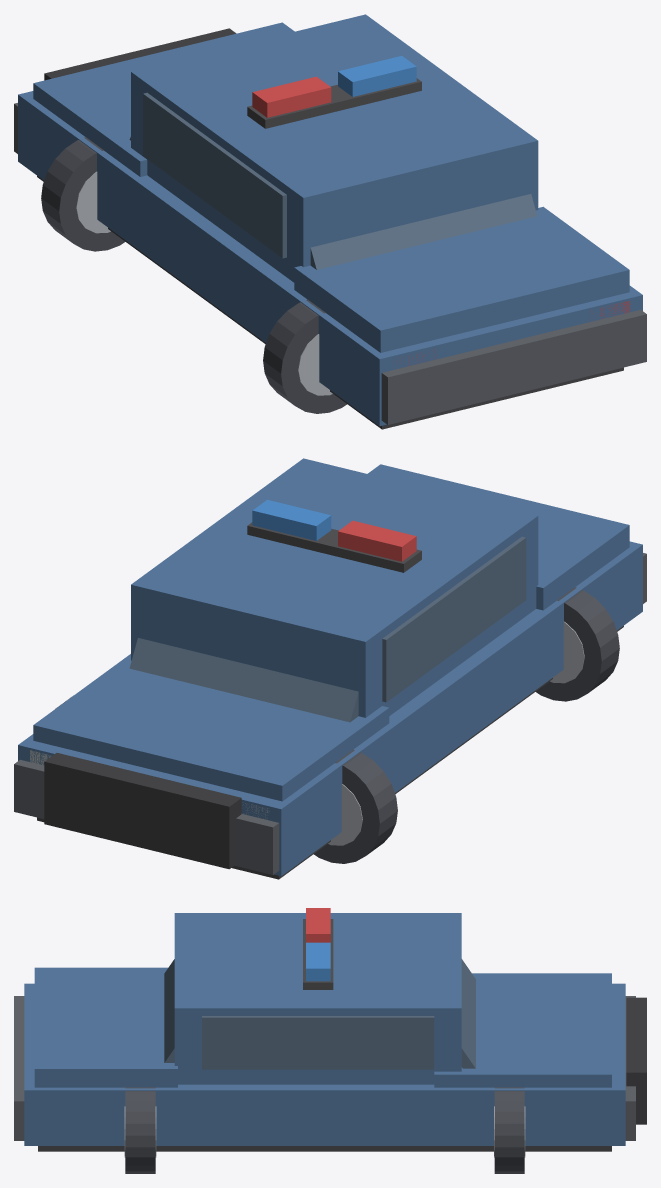
Rendered from vehicle_police.glb.
3 views of the same model, one above another, from view 1: azimuth 30°, elevation 25°; view 2: azimuth 150°, elevation 25°; view 3: azimuth 270°, elevation 25° (orthographic). The views are drawn at different scales.
Parts seen in each view (by area): view 1: world; view 2: world; view 3: world.
Part boxes in pixels (box(x1,y1,x2,y2)): world: box(14, 14, 646, 429); world: box(14, 458, 646, 879); world: box(14, 908, 646, 1173).
Size of the model in its own units: 2.38 by 1.47 by 4.63.
